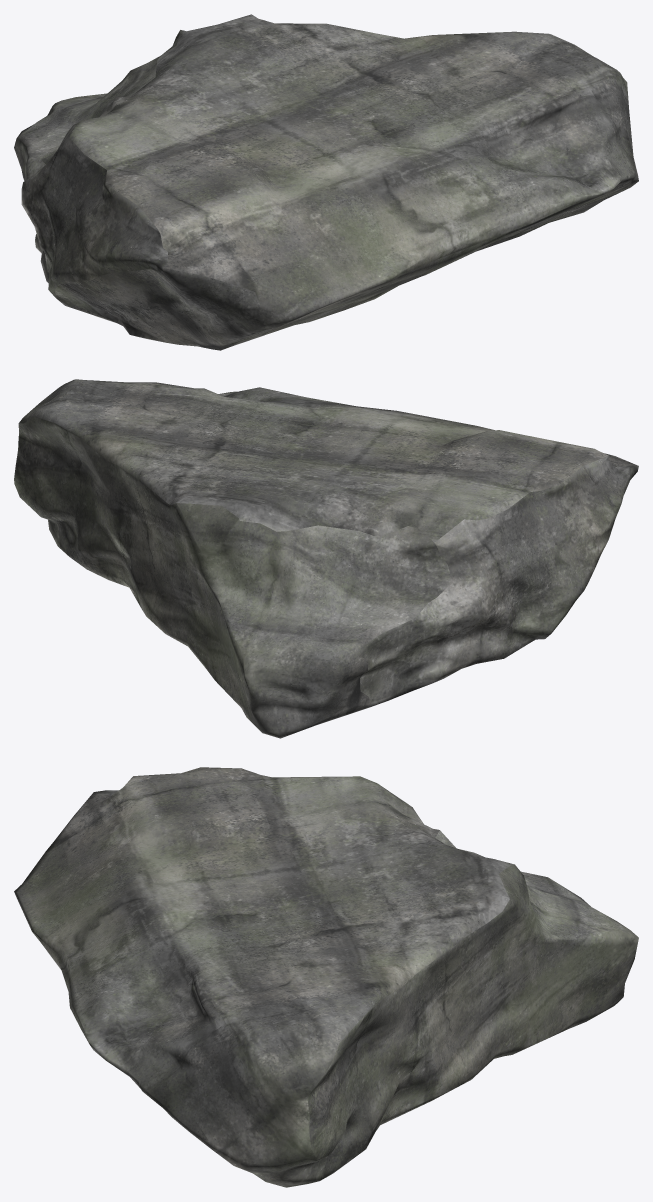
Rendered from SM_Small_Rock_E.fbx.
3 views of the same model, one above another, from view 1: azimuth 30°, elevation 25°; view 2: azimuth 150°, elevation 25°; view 3: azimuth 270°, elevation 25° (orthographic). The views are drawn at different scales.
Parts seen in each view (by area): view 1: SM_Small_Rock_E_LOD0; view 2: SM_Small_Rock_E_LOD0; view 3: SM_Small_Rock_E_LOD0.
Boxes of the visible parts, x1,y1,x2,y2 form: SM_Small_Rock_E_LOD0: (14, 14, 638, 350); SM_Small_Rock_E_LOD0: (14, 379, 638, 738); SM_Small_Rock_E_LOD0: (14, 767, 638, 1187).
Bounding box in the file's own units: 238 × 213 × 70.35.
